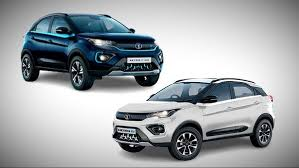Tata Nexon: (111, 78, 274, 161), (21, 11, 164, 92)
